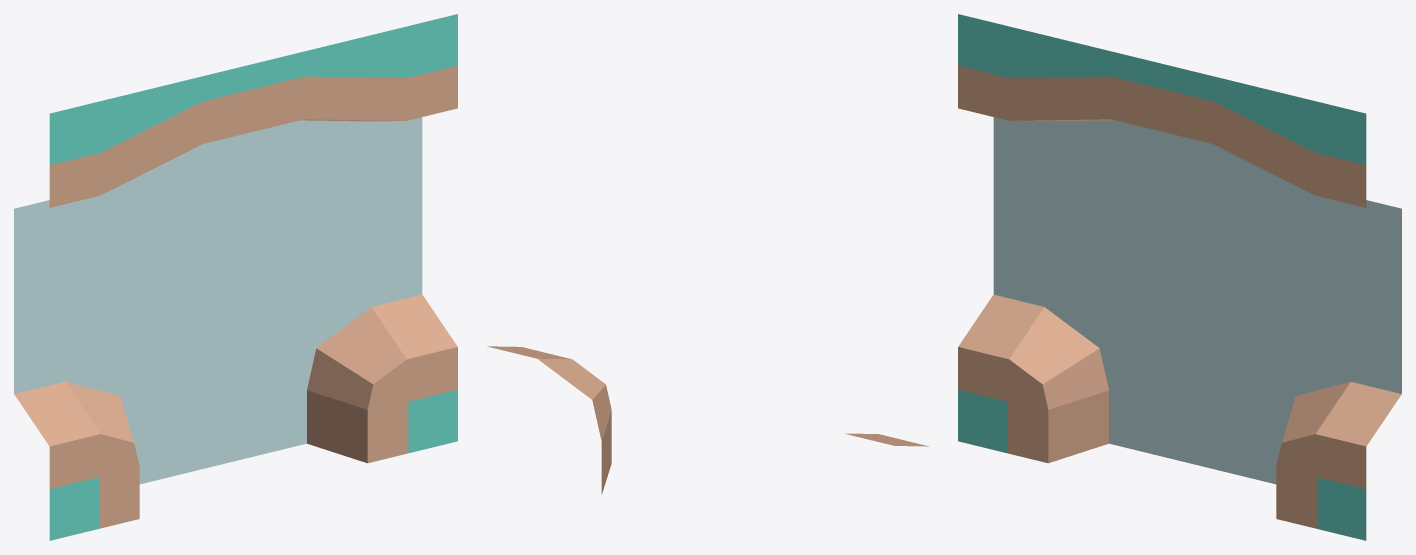
3 views of the same model, side by side, from view 1: azimuth 30°, elevation 25°; view 2: azimuth 150°, elevation 25°; view 3: azimuth 330°, elevation 25° (orthographic).
Parts seen in each view (by area): view 1: ground_riverSplit; view 2: ground_riverSplit; view 3: ground_riverSplit.
Part boxes in pixels (bbox=[...]): ground_riverSplit: bbox=[14, 14, 457, 540]; ground_riverSplit: bbox=[487, 346, 929, 494]; ground_riverSplit: bbox=[958, 14, 1401, 540].
Bounding box in the file's own units: 1 × 1 × 0.15.
